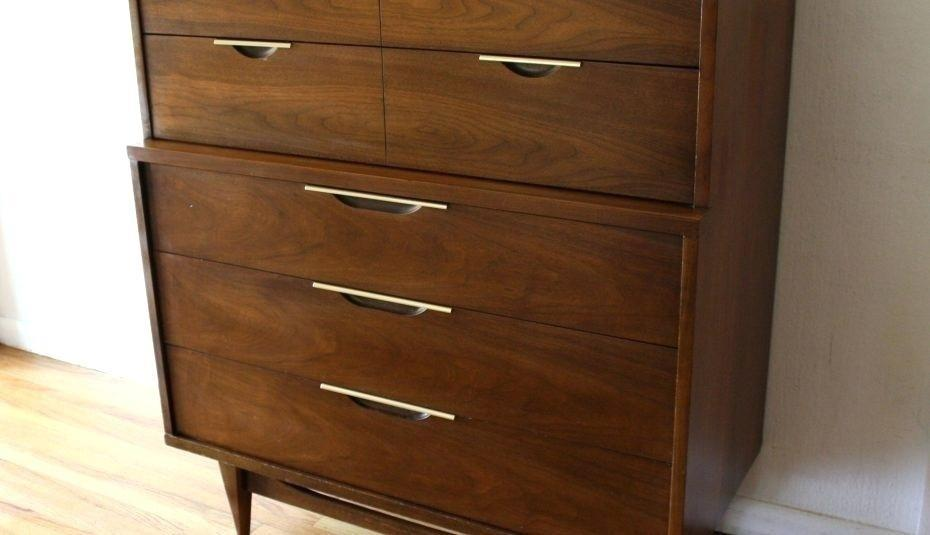cabinet_door: (164, 289, 669, 422), (148, 185, 694, 301), (161, 403, 673, 504), (391, 56, 705, 187), (145, 42, 379, 160)
handle: (316, 379, 464, 431), (307, 276, 459, 321), (296, 180, 455, 219), (475, 51, 583, 82), (216, 41, 290, 63)
